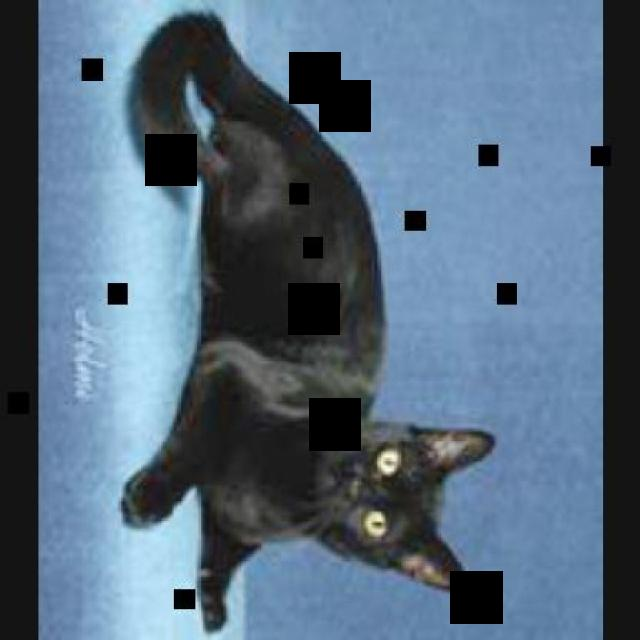unauthorized: (117, 9, 495, 634)
